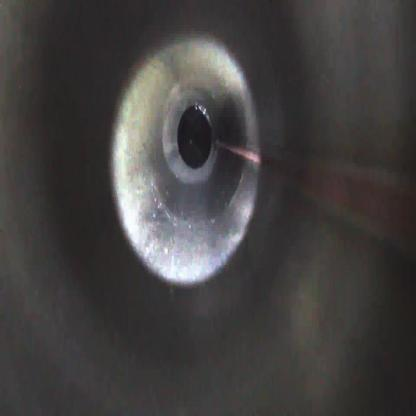NoCrack: (111, 29, 261, 287)
